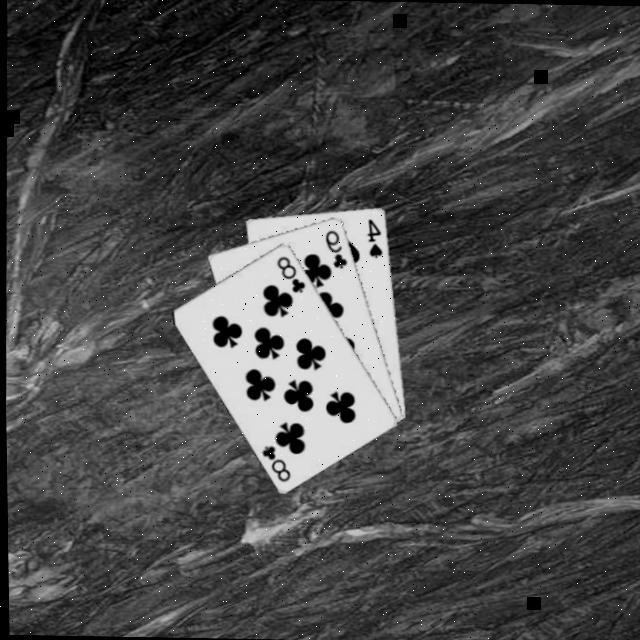4S: (360, 215, 384, 259)
8C: (269, 252, 305, 295), (254, 440, 290, 483)
9C: (318, 225, 348, 271)
